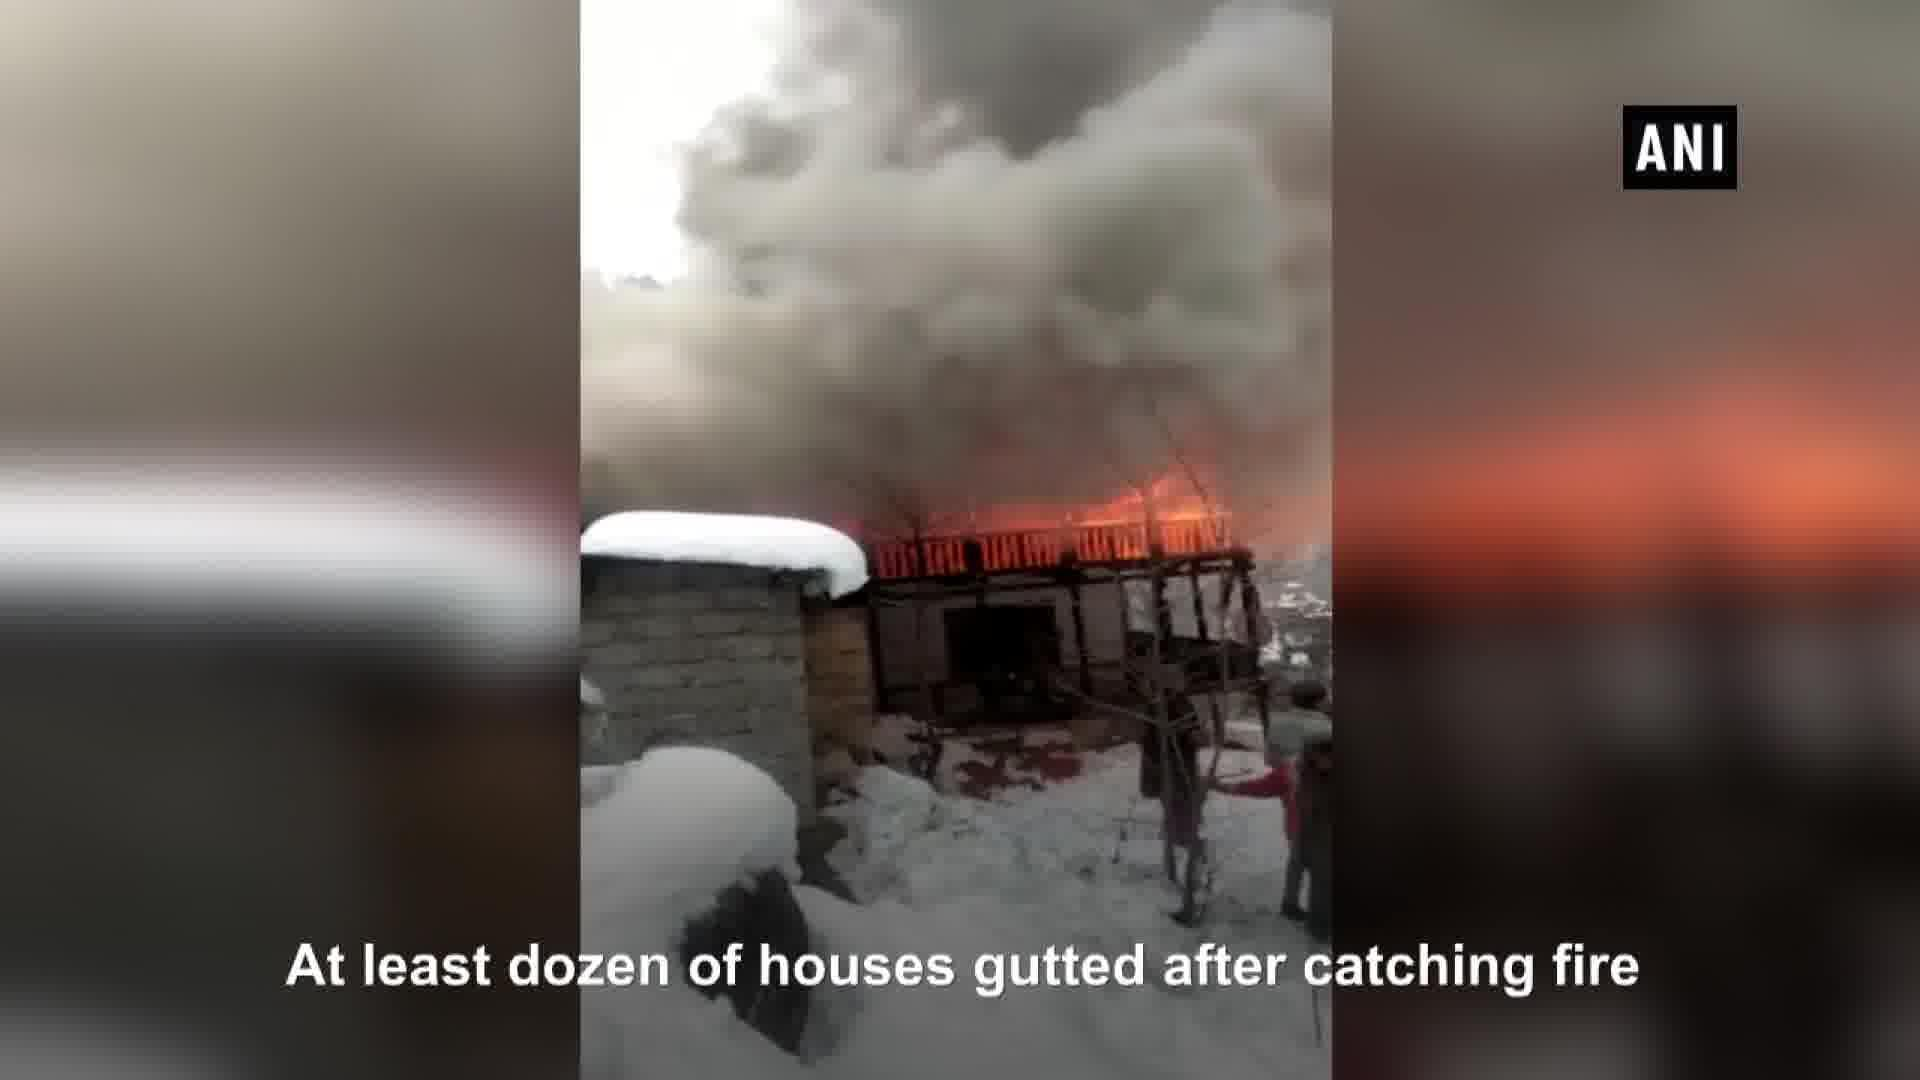fire: (1068, 489, 1237, 558)
smoke: (820, 9, 1324, 477), (583, 289, 811, 512)
